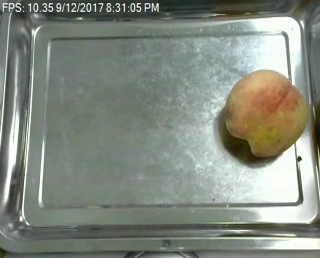Peach: (222, 68, 310, 157)
